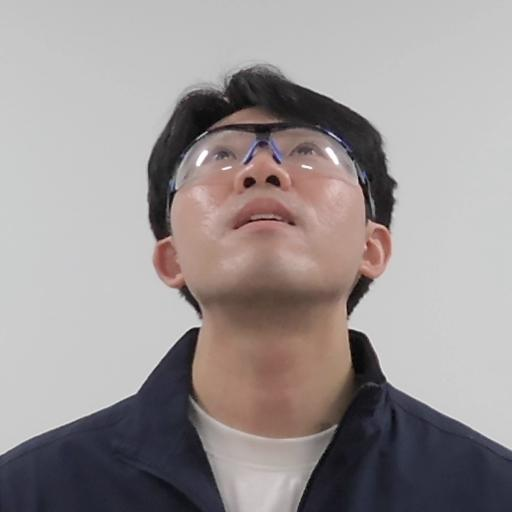glasses: (148, 84, 404, 346)
